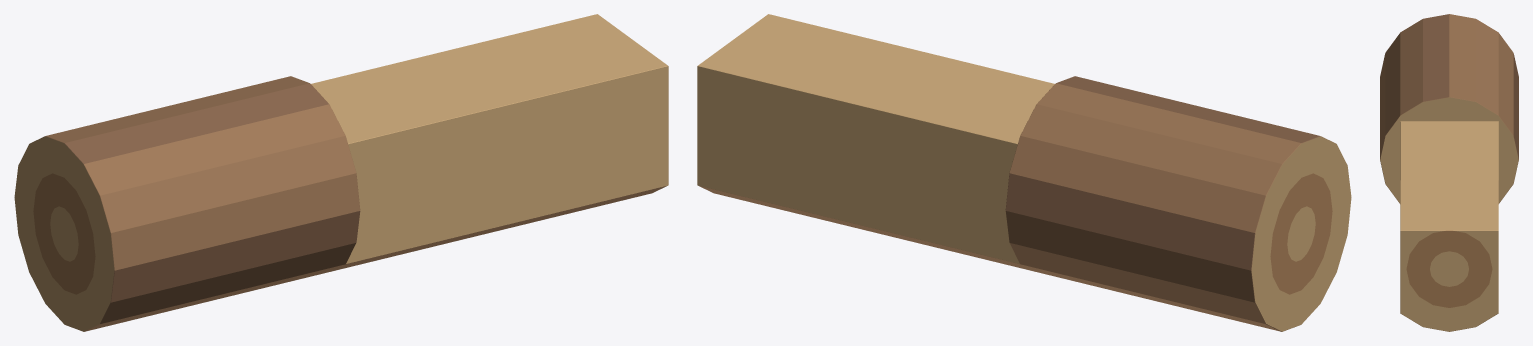
File: wip_log_to_beam.glb
The picture shows the model from 3 angles, left to right: view 1: azimuth 30°, elevation 25°; view 2: azimuth 150°, elevation 25°; view 3: azimuth 270°, elevation 25°; orthographic projection. The views are drawn at different scales.
Visible parts, largest first — view 1: wip_log_to_beam; view 2: wip_log_to_beam; view 3: wip_log_to_beam.
Boxes of the visible parts, box(x1,y1,x2,y2) form: wip_log_to_beam: box(14, 14, 668, 331); wip_log_to_beam: box(697, 14, 1351, 331); wip_log_to_beam: box(1380, 14, 1518, 331).
Size of the model in its own units: 0.74 by 0.226 by 0.226.
